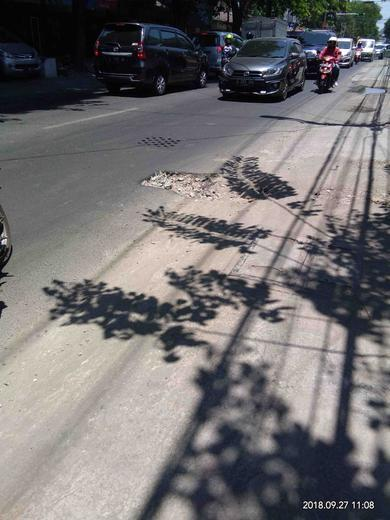Pothole: (112, 146, 260, 214)
